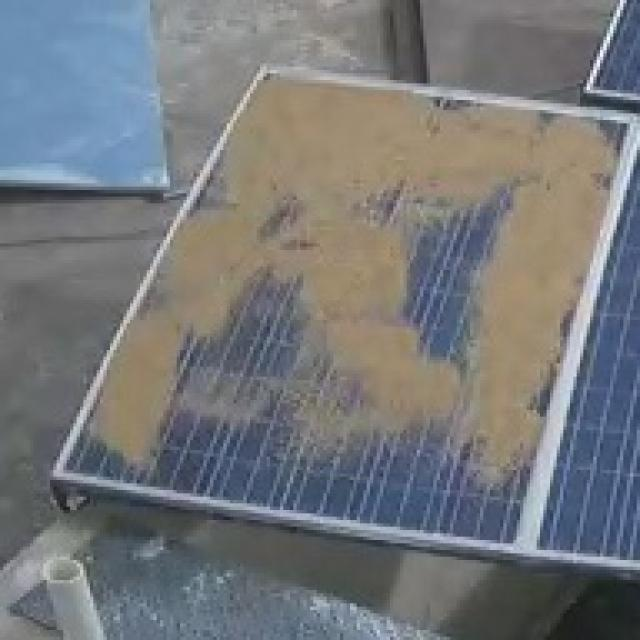Anomaly Solar Panel: (56, 65, 635, 554)
Surface Contaminant: (82, 73, 621, 494)
